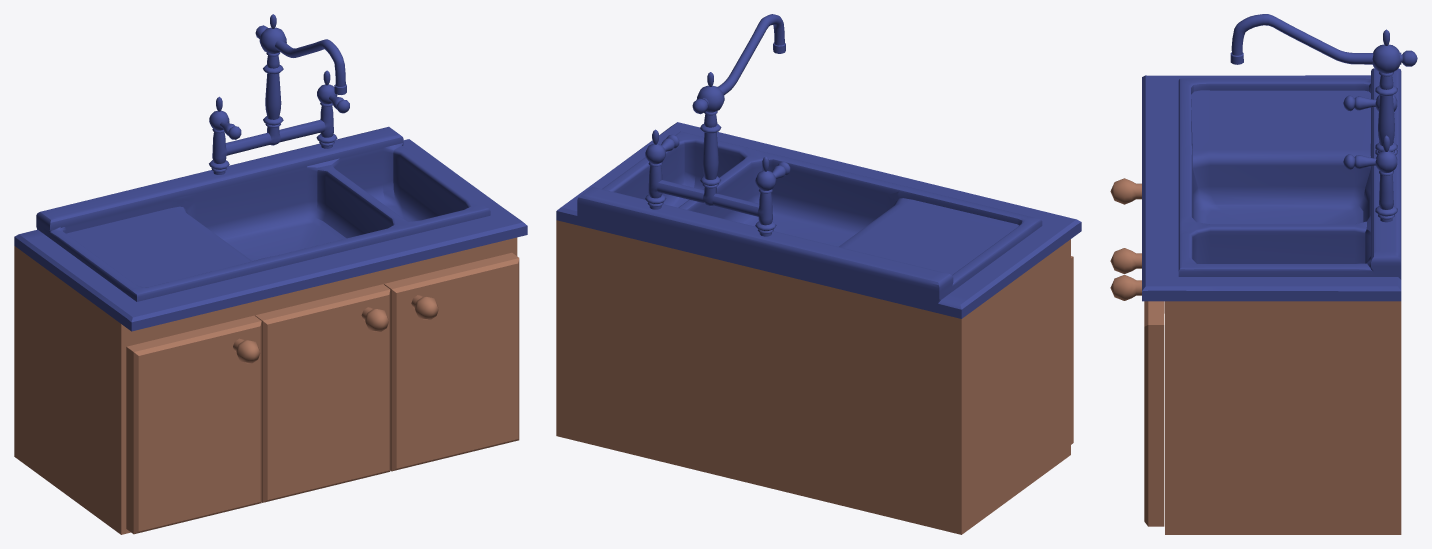
Rendered from sink_02.fbx.
The picture shows the model from 3 angles, left to right: view 1: azimuth 30°, elevation 25°; view 2: azimuth 150°, elevation 25°; view 3: azimuth 270°, elevation 25°; orthographic projection. The views are drawn at different scales.
Visible parts, largest first — view 1: Sink1; view 2: Sink1; view 3: Sink1, handleLeft, handleRight.
Part boxes in pixels (x1,y1,x2,y2): Sink1: (14, 14, 527, 534); Sink1: (556, 14, 1081, 534); Sink1: (1110, 14, 1417, 534); handleLeft: (1343, 95, 1376, 111); handleRight: (1343, 154, 1376, 169).
Bounding box in the file's own units: 184 × 177 × 111.
